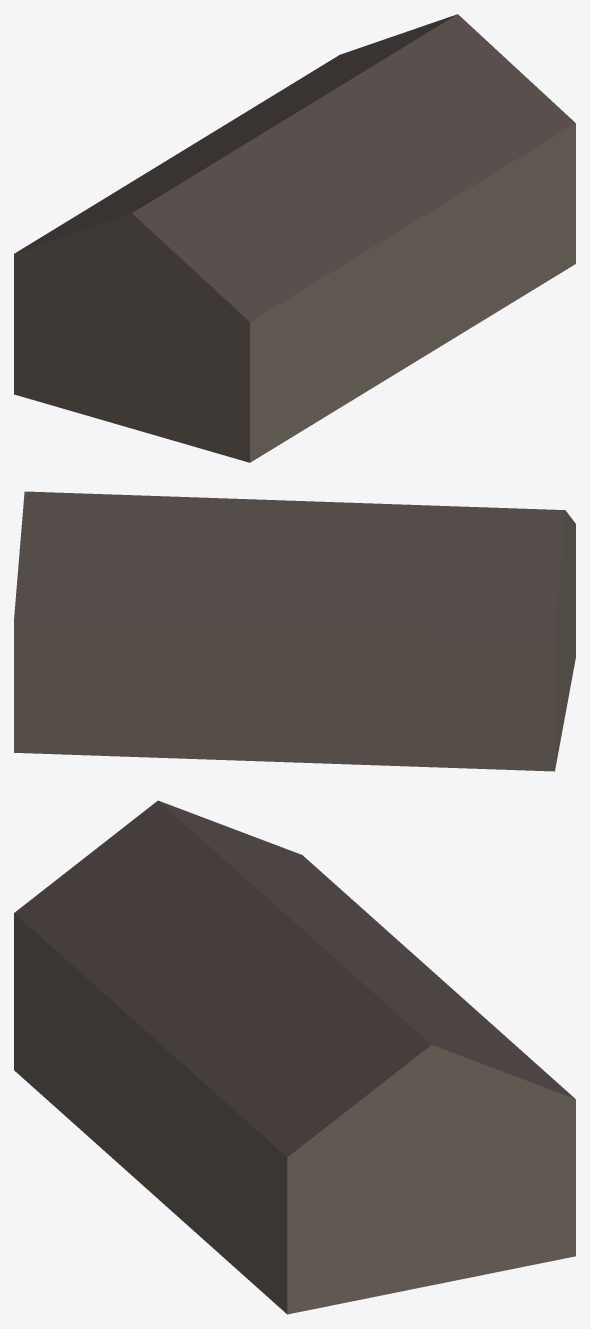
3 views of the same model, one above another, from view 1: azimuth 30°, elevation 25°; view 2: azimuth 150°, elevation 25°; view 3: azimuth 270°, elevation 25° (orthographic). The views are drawn at different scales.
Visible parts, largest first — view 1: HP-w734452857; view 2: HP-w734452857; view 3: HP-w734452857.
Part boxes in pixels (x1=…): HP-w734452857: x1=14, y1=14, x2=575, y2=462; HP-w734452857: x1=14, y1=491, x2=575, y2=771; HP-w734452857: x1=14, y1=800, x2=575, y2=1314.
Bounding box in the file's own units: 24.8 × 9.2 × 19.47.
